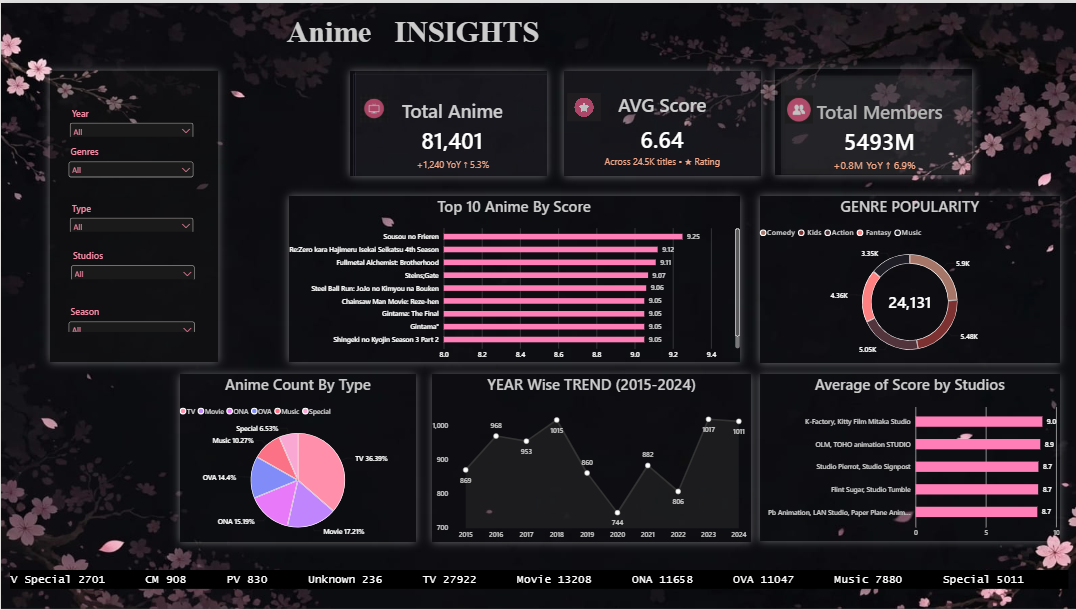

Layout of this report page (visuals, bound fields, positions):
{"tool":"powerbi","page":{"name":"Page 1","canvas":[1920,1080],"ordinal":0},"visuals":[{"type":"image","box":[0,0,1920.4,1080.6],"z":0},{"type":"cardVisual","fields":{"Data":["CountNonNull(anime-dataset-2026.Name)"]},"box":[623.3,119.4,352,188],"z":1000},{"type":"cardVisual","fields":{"Data":["Avg(anime-dataset-2026.Score)"]},"box":[1004,119.4,352,188.5],"z":2000},{"type":"cardVisual","fields":{"Data":["Sum(anime-dataset-2026.Members)"]},"box":[1381,117.6,352.7,188.5],"z":3000},{"type":"barChart","title":"Top 10 Anime By Score","fields":{"Category":["anime-dataset-2026.Name"],"Y":["Avg(anime-dataset-2026.Score)"]},"box":[513,343.5,805.2,296.7],"z":4000},{"type":"donutChart","title":"GENRE POPULARITY","fields":{"Category":["anime-dataset-2026.Genres"],"Y":["CountNonNull(anime-dataset-2026.Genres)"]},"box":[1353.9,343.5,535.3,298.9],"z":5000},{"type":"pieChart","title":"Anime Count By Type","fields":{"Category":["anime-dataset-2026.Type"],"Y":["CountNonNull(anime-dataset-2026.Type)"]},"box":[319,662.5,421.6,298.9],"z":6000},{"type":"areaChart","title":"YEAR Wise TREND (2015-2024)","fields":{"Category":["anime-dataset-2026.Year"],"Y":["CountNonNull(anime-dataset-2026.anime_id)"]},"box":[769.5,662.5,568.8,298.9],"z":7000},{"type":"clusteredBarChart","fields":{"Category":["anime-dataset-2026.Studios"],"Y":["Avg(anime-dataset-2026.Score)"]},"box":[1353.9,662.5,535.3,296.7],"z":8000},{"type":"textbox","box":[696.1,276.2,220.8,42.4],"z":9000},{"type":"textbox","box":[1041.4,272.5,276.6,42.4],"z":10000},{"type":"textbox","box":[1437,276.2,244.5,39.2],"z":11000},{"type":"image","box":[1010.4,160.6,60,50],"z":12000},{"type":"image","box":[636.4,162.4,60,50],"z":13000},{"type":"image","box":[1397.8,166.1,50,50],"z":14000},{"type":"shape","box":[87,120.4,301.1,519.7],"z":15000},{"type":"slicer","fields":{"Values":["anime-dataset-2026.Year"]},"box":[118.2,185.1,229.7,53.5],"z":16000},{"type":"slicer","fields":{"Values":["anime-dataset-2026.Genres"]},"box":[116,254.3,232,64.7],"z":17000},{"type":"slicer","fields":{"Values":["anime-dataset-2026.Type"]},"box":[118.2,354.6,229.7,53.5],"z":18000},{"type":"slicer","fields":{"Values":["anime-dataset-2026.Studios"]},"box":[120.4,439.4,229.7,53.5],"z":19000},{"type":"slicer","fields":{"Values":["anime-dataset-2026.Season"]},"box":[116,539.8,234.2,46.8],"z":20000},{"type":"ScrollingTextVisual1448795304508","fields":{"Category":["anime-dataset-2026.Type"],"Measure Absolute":["CountNonNull(anime-dataset-2026.anime_id)"]},"box":[0,997,1920.5,64.7],"z":21000},{"type":"textbox","box":[232,20.1,979.2,82.5],"z":22000}]}

Visuals, with their boxes in screenshot pixels (x1, y1, x2, y2), scaled from the page's 1920x1080 canvas onto the 1076x610 screenshot:
image: detection(0, 0, 1075, 609)
cardVisual - CountNonNull(anime-dataset-2026.Name): detection(349, 67, 547, 174)
cardVisual - Avg(anime-dataset-2026.Score): detection(563, 67, 760, 174)
cardVisual - Sum(anime-dataset-2026.Members): detection(774, 66, 972, 173)
"Top 10 Anime By Score" barChart: detection(287, 194, 739, 362)
"GENRE POPULARITY" donutChart: detection(759, 194, 1059, 363)
"Anime Count By Type" pieChart: detection(179, 374, 415, 543)
"YEAR Wise TREND (2015-2024)" areaChart: detection(431, 374, 750, 543)
clusteredBarChart - anime-dataset-2026.Studios x Avg(anime-dataset-2026.Score): detection(759, 374, 1059, 542)
textbox: detection(390, 156, 514, 180)
textbox: detection(584, 154, 739, 178)
textbox: detection(805, 156, 942, 178)
image: detection(566, 91, 600, 119)
image: detection(357, 92, 390, 120)
image: detection(783, 94, 811, 122)
shape: detection(49, 68, 217, 362)
slicer - anime-dataset-2026.Year: detection(66, 105, 195, 135)
slicer - anime-dataset-2026.Genres: detection(65, 144, 195, 180)
slicer - anime-dataset-2026.Type: detection(66, 200, 195, 231)
slicer - anime-dataset-2026.Studios: detection(67, 248, 196, 278)
slicer - anime-dataset-2026.Season: detection(65, 305, 196, 331)
ScrollingTextVisual1448795304508 - anime-dataset-2026.Type x CountNonNull(anime-dataset-2026.anime_id): detection(0, 563, 1075, 600)
textbox: detection(130, 11, 679, 58)
